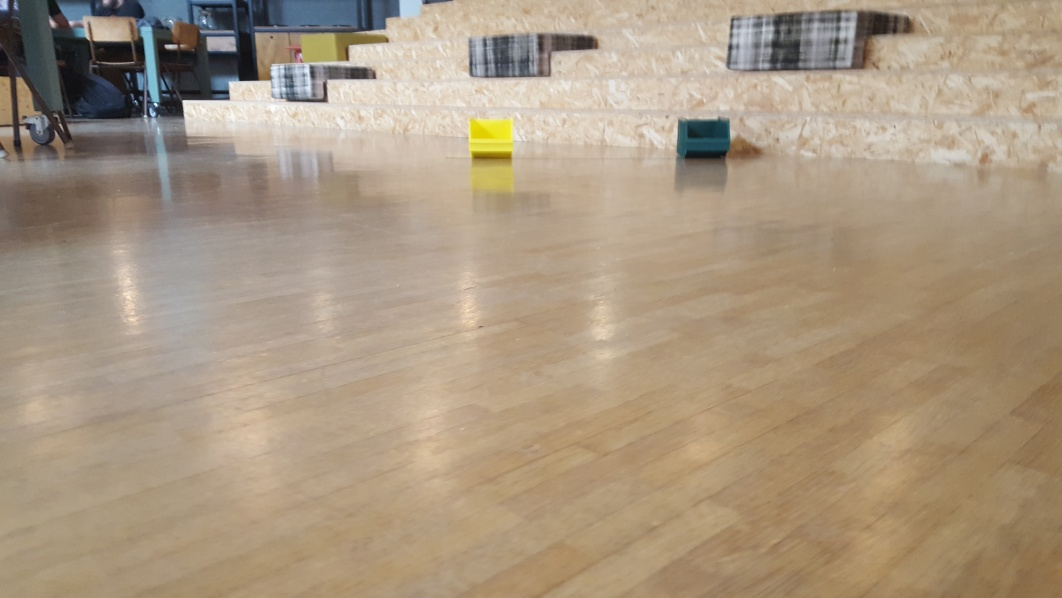tray: (672, 116, 731, 156), (465, 115, 516, 161)
